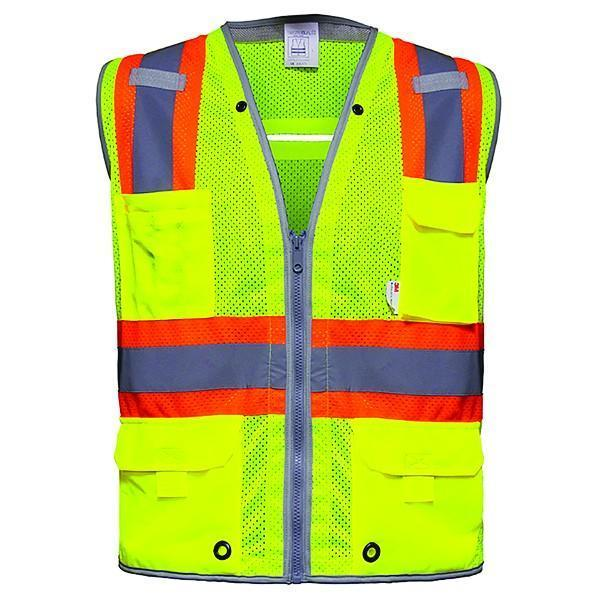vest: (95, 19, 502, 581)
